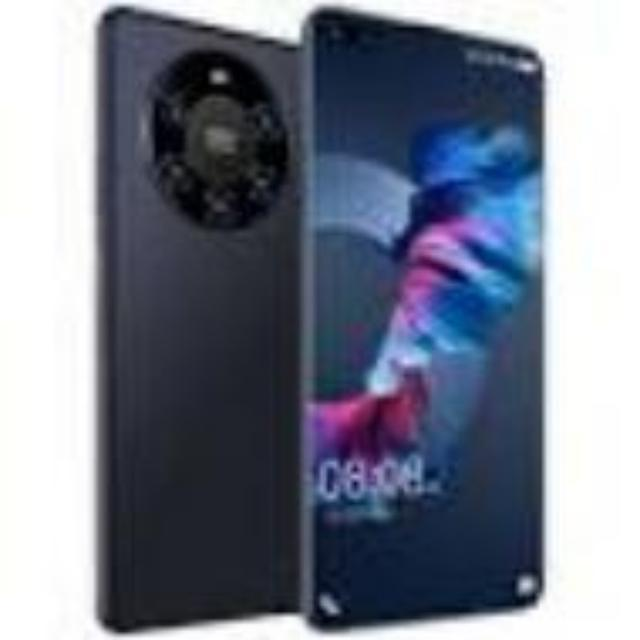Phone: (303, 6, 545, 628), (92, 4, 298, 630)
